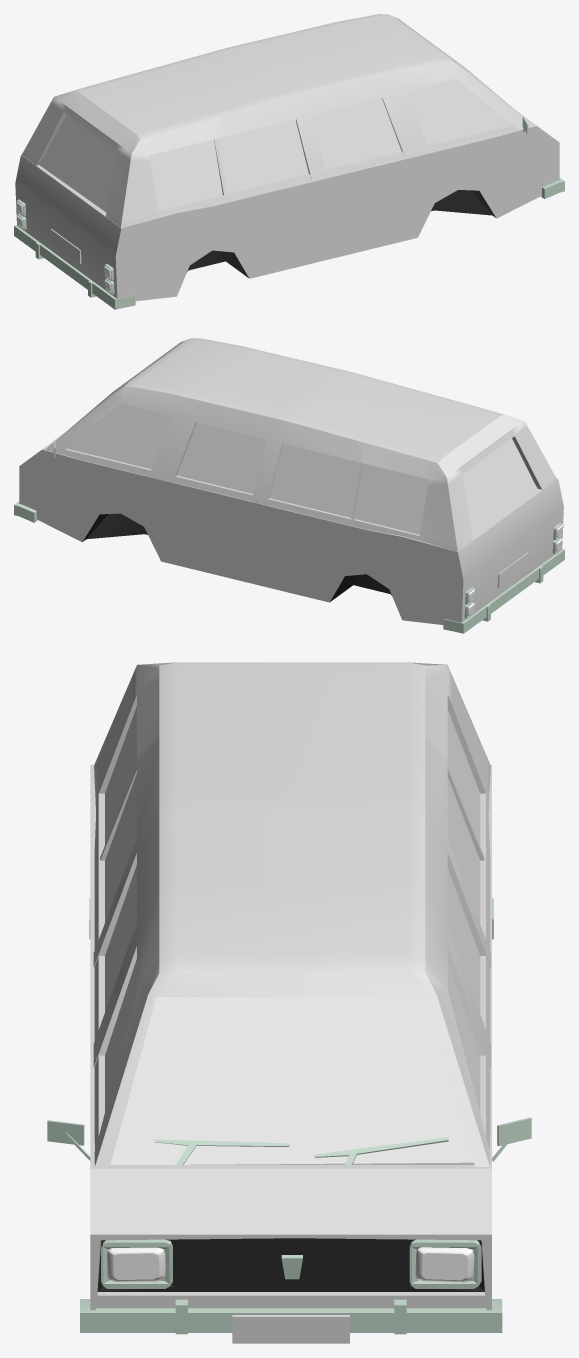
The model's file is Raf.fbx.
The picture shows the model from 3 angles, top to bottom: view 1: azimuth 30°, elevation 25°; view 2: azimuth 150°, elevation 25°; view 3: azimuth 270°, elevation 25°; orthographic projection. The views are drawn at different scales.
Parts seen in each view (by area): view 1: pCube2_Paint_main_0, pCube1_Paint_main_0, pCube13_glass_0, pCube26_glass_0, pCube1_rubber_0, pCube17_metal_0, pCube27_number_plate_0; view 2: pCube2_Paint_main_0, pCube1_Paint_main_0, pCube14_glass_0, pCube26_glass_0, pCube1_rubber_0, pCube17_metal_0, pCube27_number_plate_0; view 3: pCube2_Paint_main_0, pCube15_glass_0, pCube1_Paint_main_0, pCube1_rubber_0, pCube16_metal_0, pCube14_glass_0, pCube13_glass_0, pCube28_number_plate_0, pCube10_lamp_0, pCube11_lamp_0, pCube9_metal_0, pCube8_metal_0 (+4 smaller).
Part boxes in pixels (x1=…): pCube2_Paint_main_0: x1=22, y1=14, x2=533, y2=227; pCube1_Paint_main_0: x1=15, y1=111, x2=559, y2=301; pCube13_glass_0: x1=149, y1=79, x2=511, y2=210; pCube26_glass_0: x1=39, y1=114, x2=116, y2=211; pCube1_rubber_0: x1=187, y1=190, x2=495, y2=277; pCube17_metal_0: x1=14, y1=225, x2=135, y2=309; pCube27_number_plate_0: x1=50, y1=229, x2=81, y2=263; pCube2_Paint_main_0: x1=45, y1=338, x2=556, y2=551; pCube1_Paint_main_0: x1=19, y1=433, x2=563, y2=624; pCube14_glass_0: x1=67, y1=403, x2=428, y2=534; pCube26_glass_0: x1=462, y1=438, x2=537, y2=537; pCube1_rubber_0: x1=83, y1=513, x2=391, y2=601; pCube17_metal_0: x1=443, y1=549, x2=564, y2=633; pCube27_number_plate_0: x1=497, y1=552, x2=528, y2=587; pCube2_Paint_main_0: x1=93, y1=662, x2=490, y2=1166; pCube15_glass_0: x1=110, y1=997, x2=473, y2=1164; pCube1_Paint_main_0: x1=90, y1=765, x2=491, y2=1310; pCube1_rubber_0: x1=97, y1=1238, x2=484, y2=1291; pCube16_metal_0: x1=80, y1=1299, x2=502, y2=1334; pCube14_glass_0: x1=447, y1=710, x2=480, y2=1113; pCube13_glass_0: x1=105, y1=706, x2=136, y2=1111; pCube28_number_plate_0: x1=232, y1=1315, x2=349, y2=1343; pCube10_lamp_0: x1=107, y1=1247, x2=165, y2=1282; pCube11_lamp_0: x1=415, y1=1247, x2=474, y2=1282; pCube9_metal_0: x1=409, y1=1239, x2=481, y2=1288; pCube8_metal_0: x1=101, y1=1239, x2=172, y2=1288.
Bounding box in the file's own units: 946 × 318 × 439.
